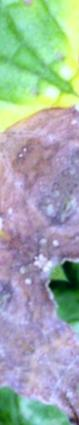Tomato Early blight leaf: (0, 57, 79, 348)
